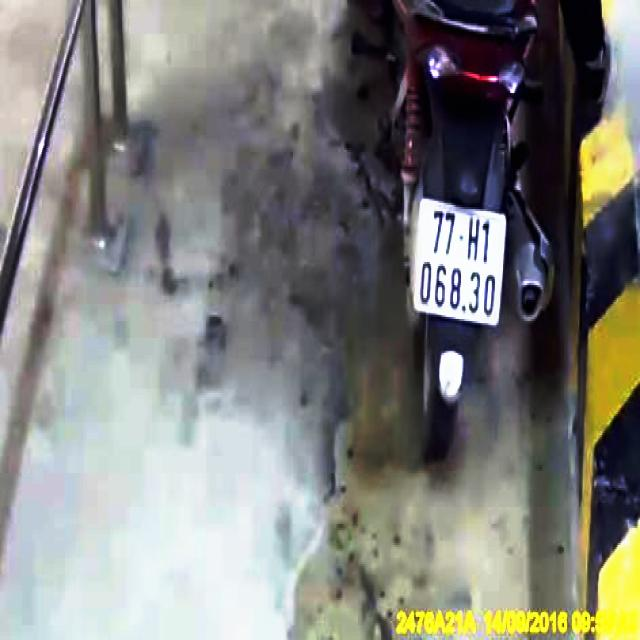license_plate: (413, 197, 506, 329)
